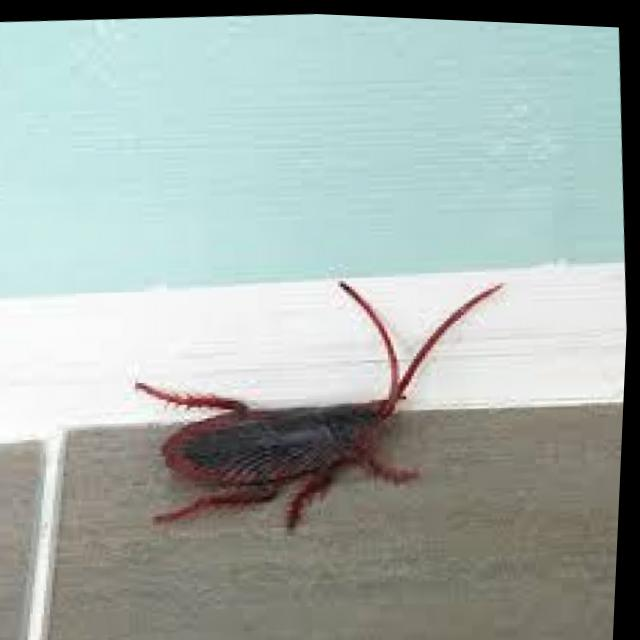Cockroach: (102, 295, 481, 590)
